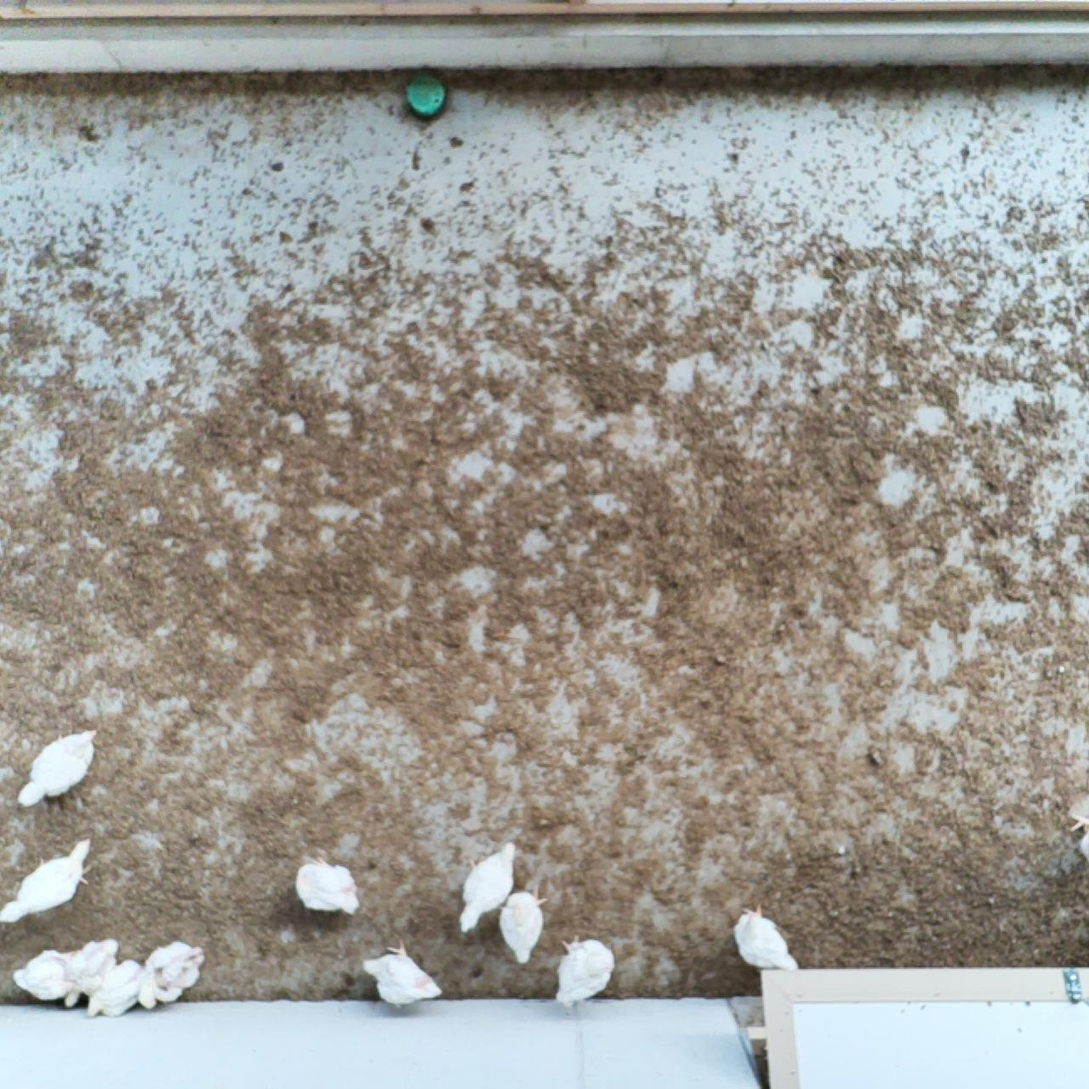chicken: (0, 835, 93, 925), (18, 724, 101, 809), (455, 837, 522, 937), (361, 941, 446, 1010), (730, 904, 805, 975), (554, 932, 618, 1008), (139, 939, 208, 1009), (60, 934, 123, 1007), (11, 944, 82, 1003), (295, 854, 360, 917), (81, 958, 147, 1019), (501, 884, 545, 968)
